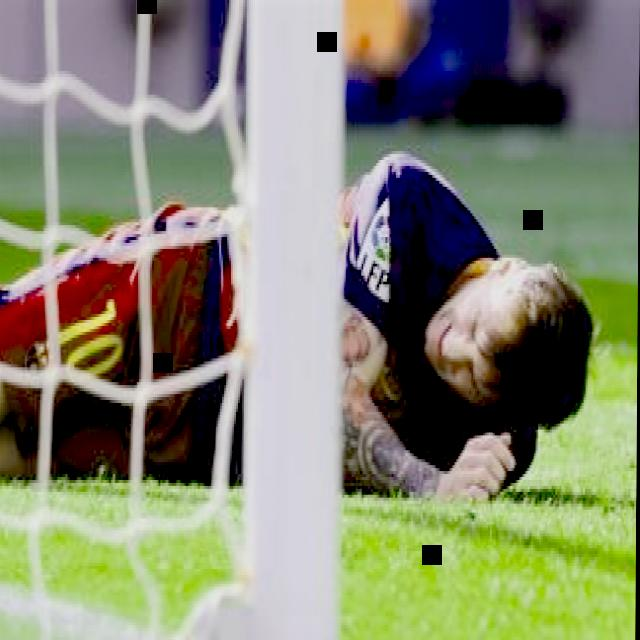Fall-Detected: (0, 65, 602, 571)
